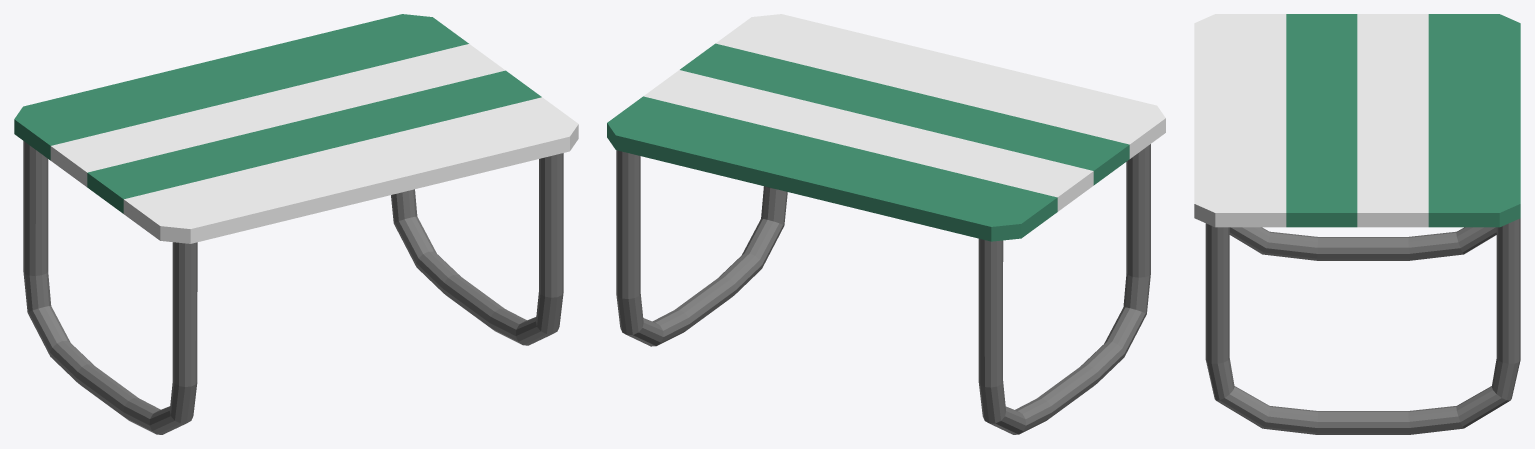
File: Table_18.fbx
The picture shows the model from 3 angles, left to right: view 1: azimuth 30°, elevation 25°; view 2: azimuth 150°, elevation 25°; view 3: azimuth 270°, elevation 25°; orthographic projection. The views are drawn at different scales.
Parts seen in each view (by area): view 1: Table_18; view 2: Table_18; view 3: Table_18.
Boxes of the visible parts, x1,y1,x2,y2 form: Table_18: [14, 14, 578, 434]; Table_18: [607, 14, 1165, 434]; Table_18: [1194, 14, 1520, 434].
Size of the model in its own units: 1.03 by 0.5641 by 0.7155.
